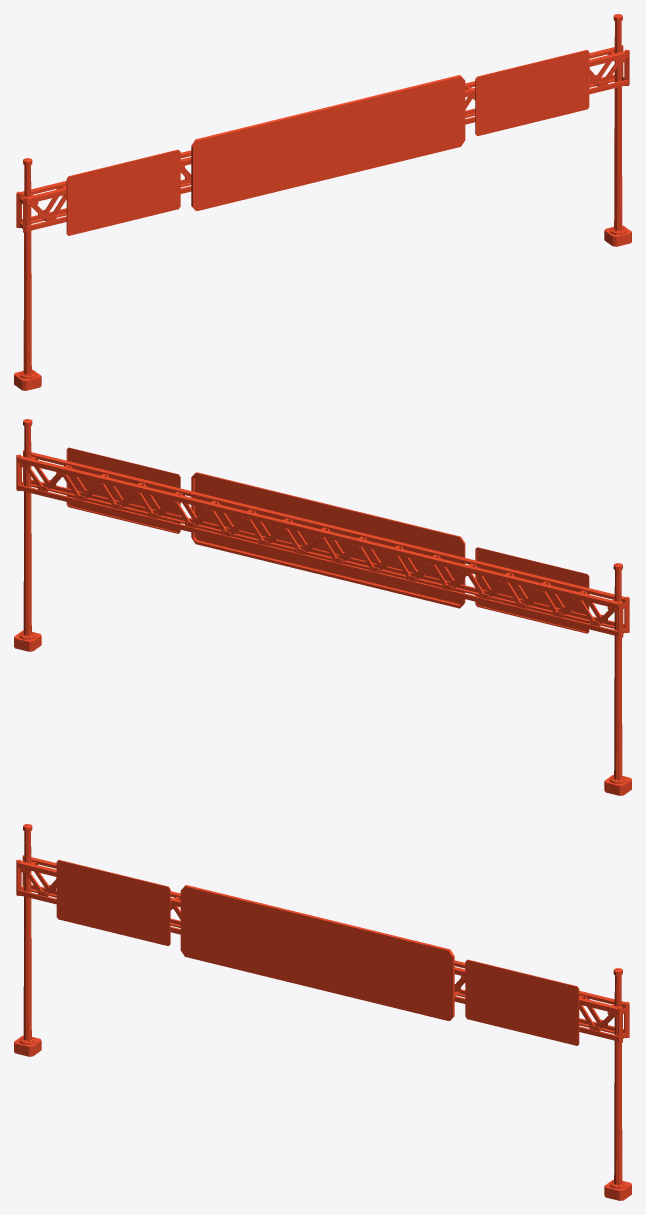
The model's file is SM_Sign_Gantry_Wide_C_City.fbx.
3 renders of one model, top to bottom at view 1: azimuth 30°, elevation 25°; view 2: azimuth 150°, elevation 25°; view 3: azimuth 330°, elevation 25°, orthographic.
Visible parts, largest first — view 1: SM_Sign_Gantry_Wide_C_City; view 2: SM_Sign_Gantry_Wide_C_City; view 3: SM_Sign_Gantry_Wide_C_City.
Part boxes in pixels (x1,y1,x2,y2): SM_Sign_Gantry_Wide_C_City: (14, 14, 631, 390); SM_Sign_Gantry_Wide_C_City: (14, 419, 631, 795); SM_Sign_Gantry_Wide_C_City: (14, 824, 631, 1200).
Bounding box in the file's own units: 26.85 × 9.5 × 0.8976.
